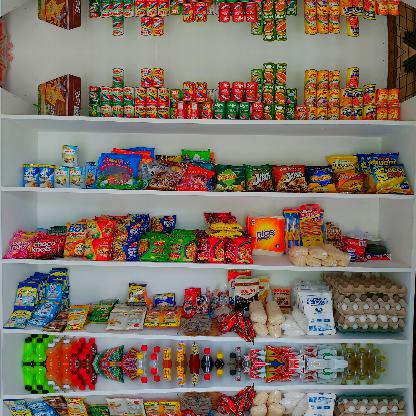Koko-Krunch: (38, 73, 80, 115), (37, 0, 81, 32)
